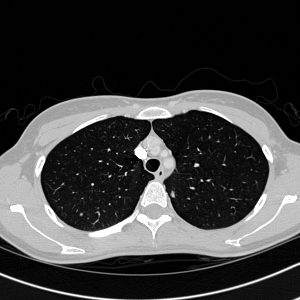nodule: (169, 191, 175, 197)
